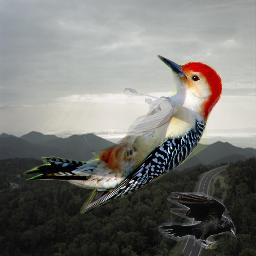Crow: (158, 192, 236, 249)
Woodpecker: (23, 55, 222, 216)
